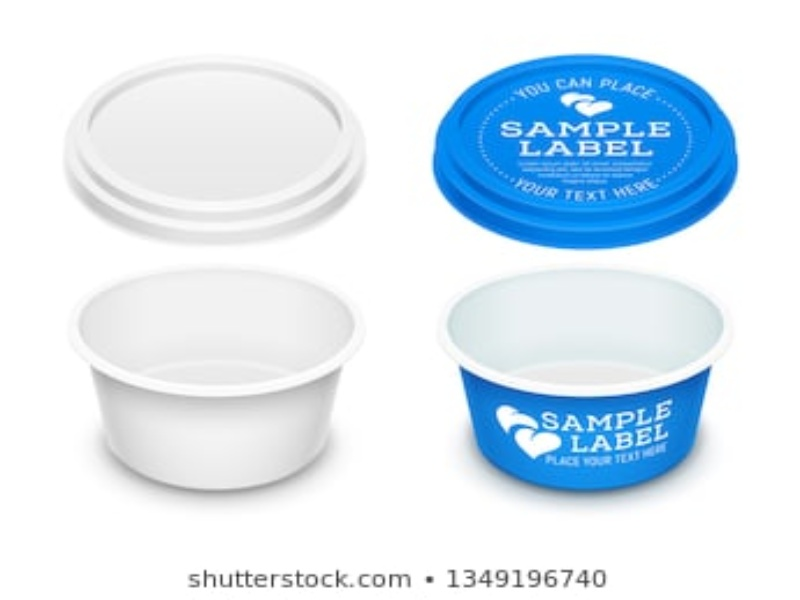yogurt-cup: (68, 264, 362, 491), (444, 262, 730, 489)
